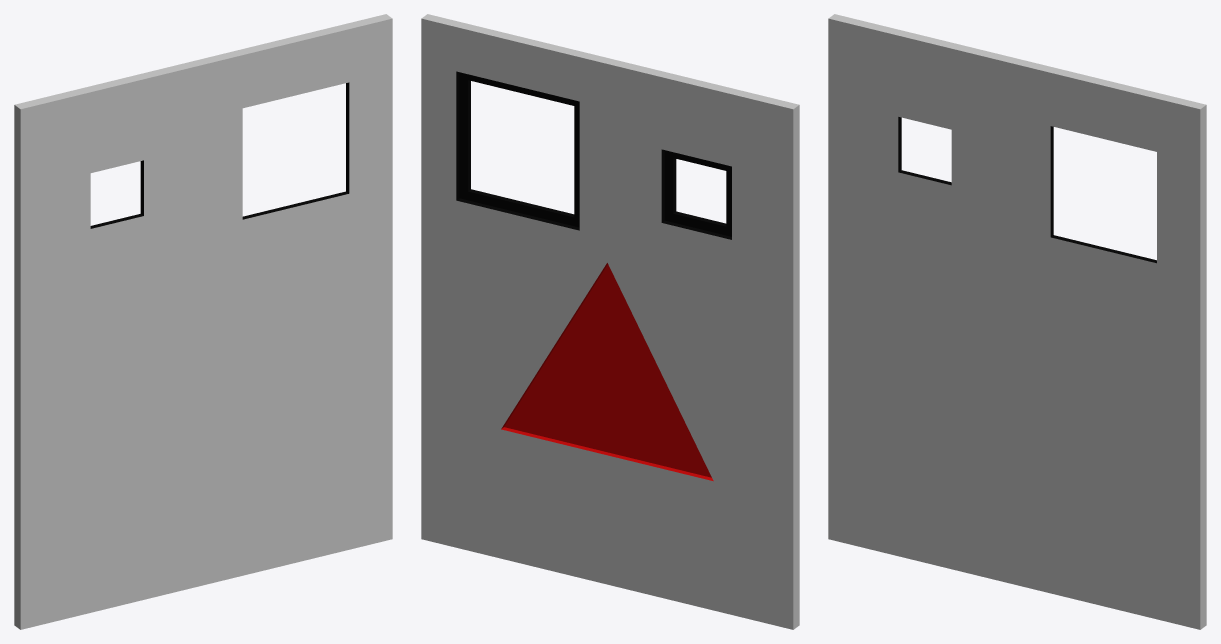
The model's file is red_triangle.dae.
The picture shows the model from 3 angles, left to right: view 1: azimuth 30°, elevation 25°; view 2: azimuth 150°, elevation 25°; view 3: azimuth 330°, elevation 25°; orthographic projection.
Visible parts, largest first — view 1: ShapeIndexedFaceSet_001; view 2: ShapeIndexedFaceSet_001; view 3: ShapeIndexedFaceSet_001.
Boxes of the visible parts, left/top/right/bottom form: ShapeIndexedFaceSet_001: left=14, top=14, right=392, bottom=629; ShapeIndexedFaceSet_001: left=421, top=14, right=799, bottom=629; ShapeIndexedFaceSet_001: left=828, top=14, right=1206, bottom=629.
Bounding box in the file's own units: 1.75 × 0.0508 × 2.34.
